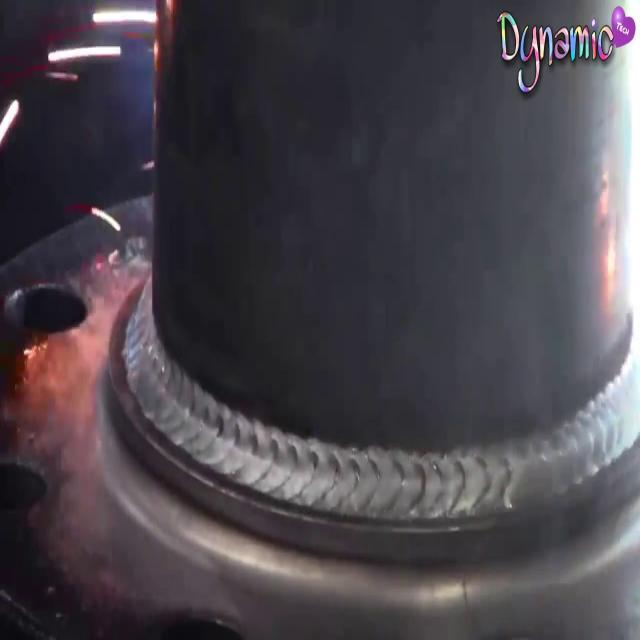Bad Welding: (149, 274, 468, 453)
